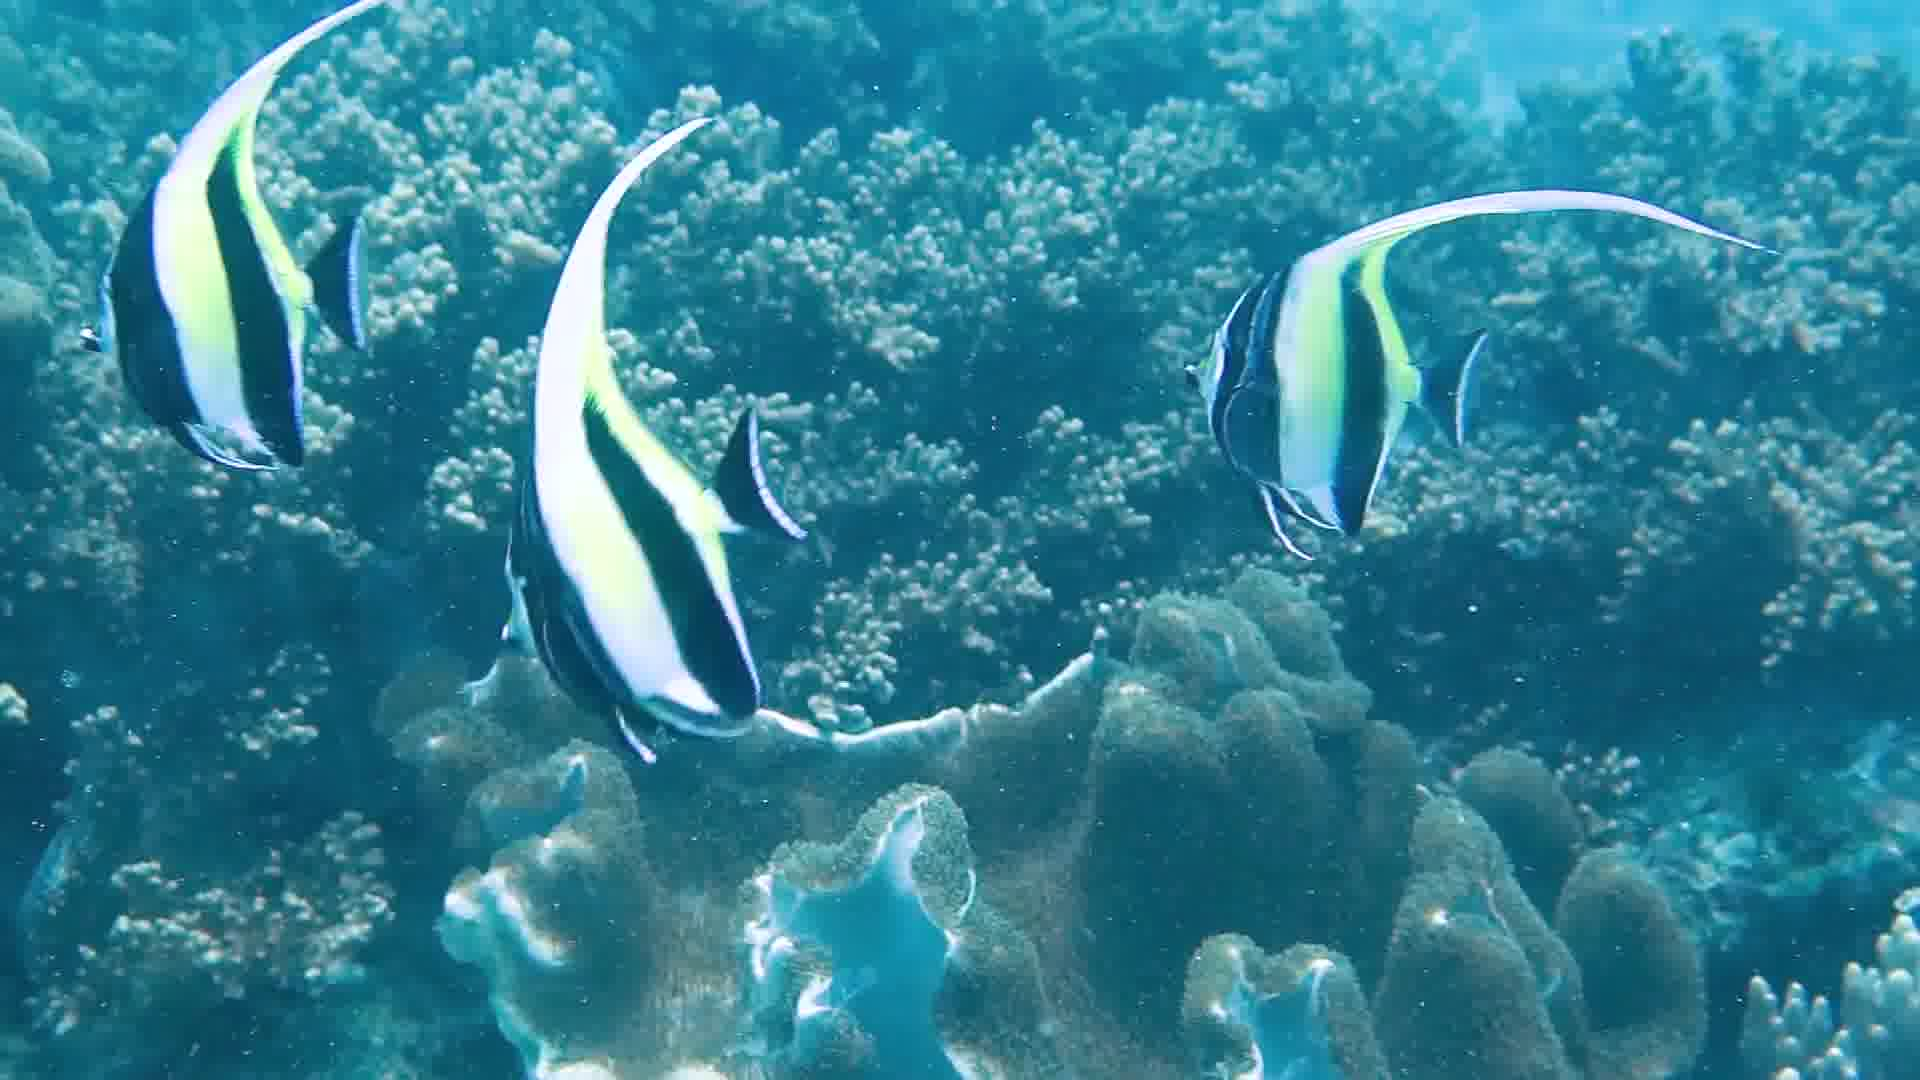Zanclus cornutus: (1162, 164, 1484, 601), (498, 315, 789, 753), (80, 80, 380, 472)
